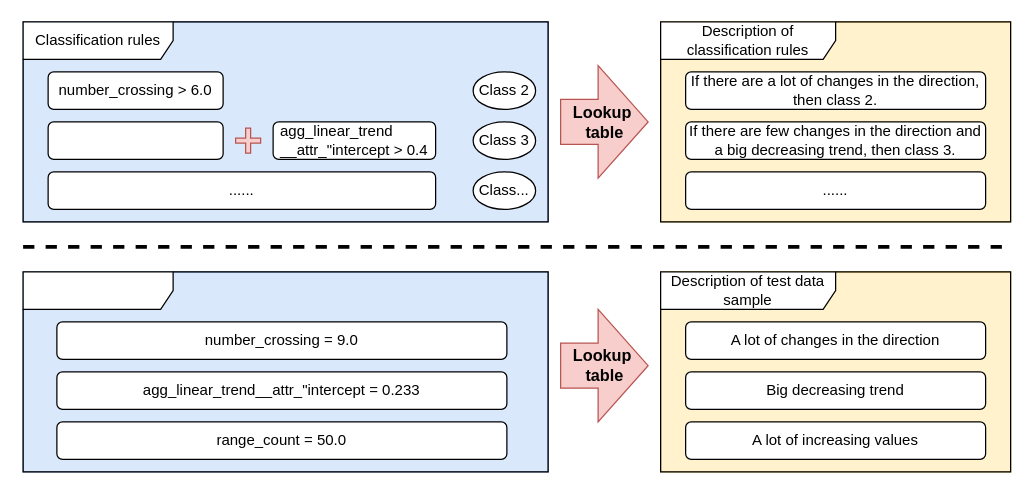
Image size: 1035x494. Some labels were removed from this diagram. Here are the shapes that lost their labels. From the top down, the centre of each, then its label:
At [135,140]: "number_crossing < 6.0".
At [285,371]: "Test data sample".
